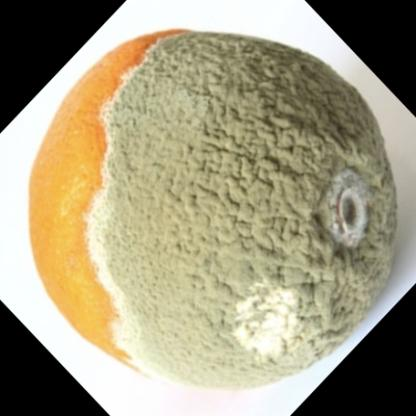rotten: (30, 30, 398, 390)
